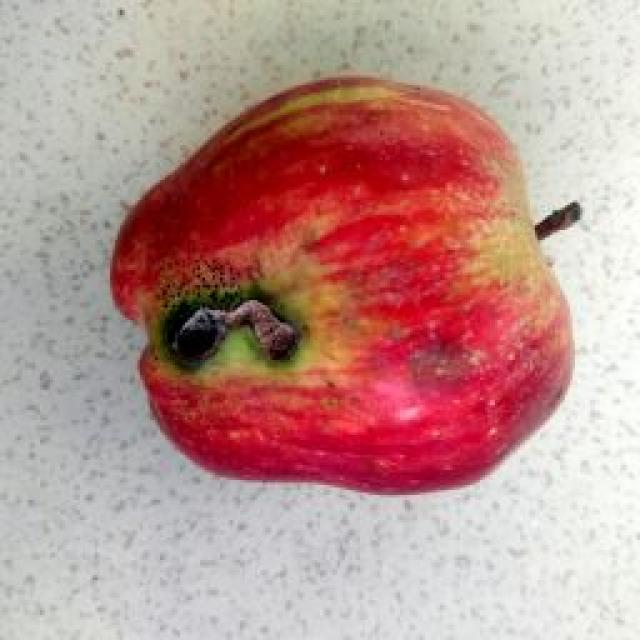Bad_Apple: (112, 79, 571, 492)
